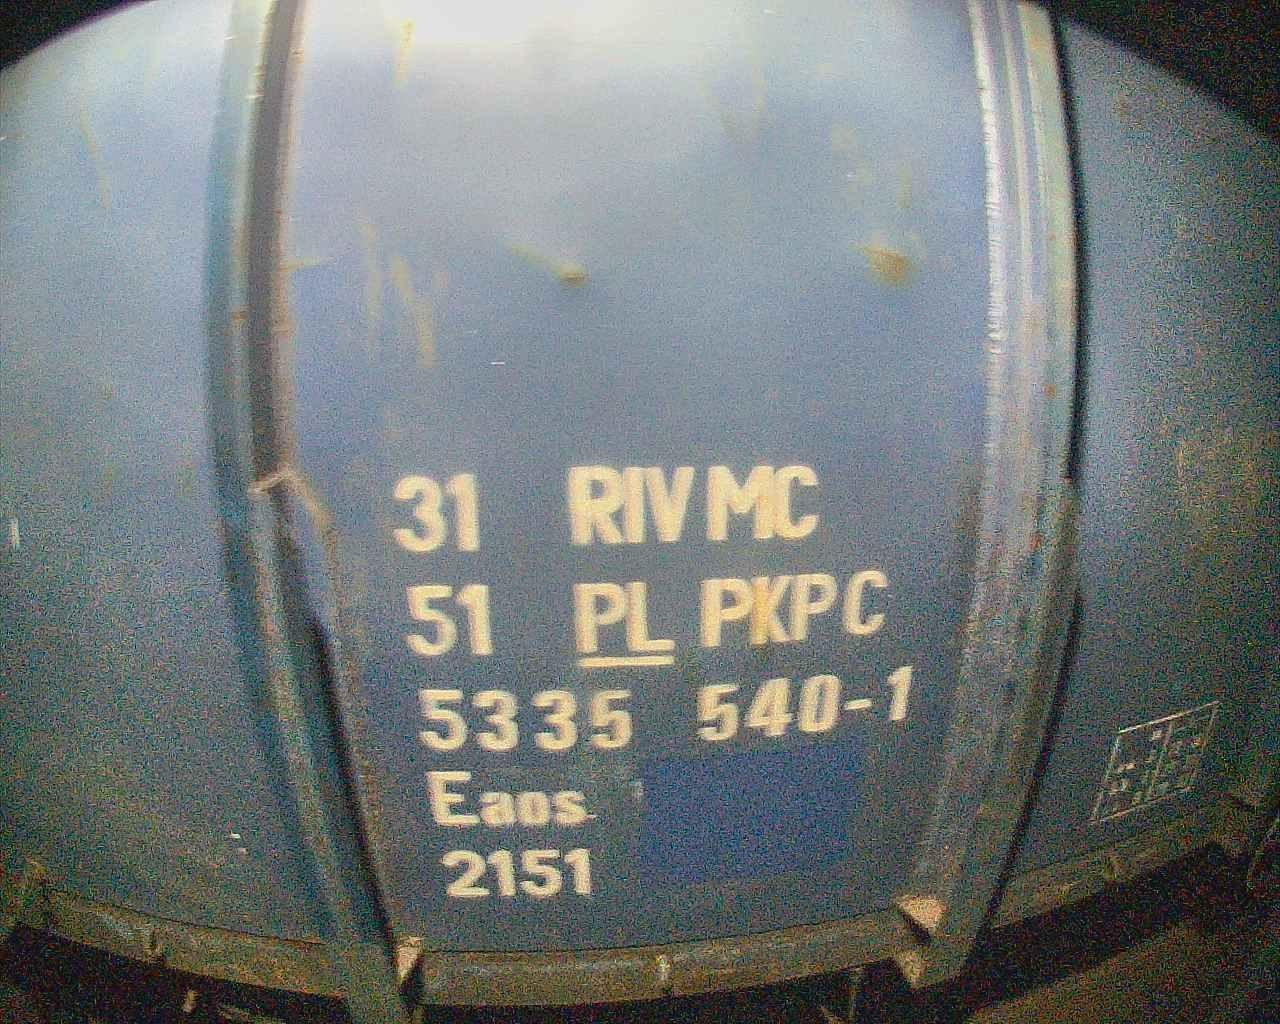UIC: (379, 461, 918, 909)
